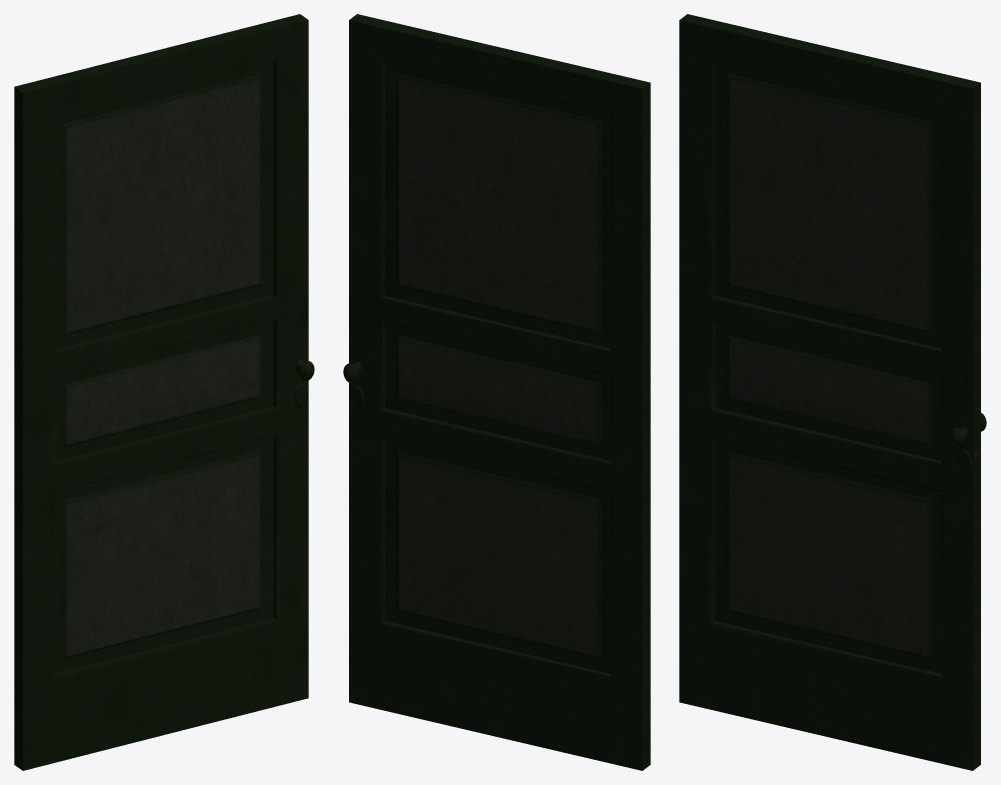
Rendered from Mod_Door_Anim_Close.fbx.
3 renders of one model, left to right at view 1: azimuth 30°, elevation 25°; view 2: azimuth 150°, elevation 25°; view 3: azimuth 330°, elevation 25°, orthographic.
Visible parts, largest first — view 1: polySurface3678; view 2: polySurface3678; view 3: polySurface3678.
Part boxes in pixels (x1,y1,x2,y2): polySurface3678: [14, 14, 314, 770]; polySurface3678: [343, 14, 650, 770]; polySurface3678: [679, 14, 986, 770].
Bounding box in the file's own units: 99.98 × 224 × 16.72.
1 material, 1 textured.
